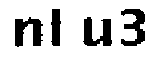3: (118, 6, 150, 52)
l: (48, 5, 66, 50)
n: (12, 15, 45, 53)
u: (77, 15, 116, 54)
